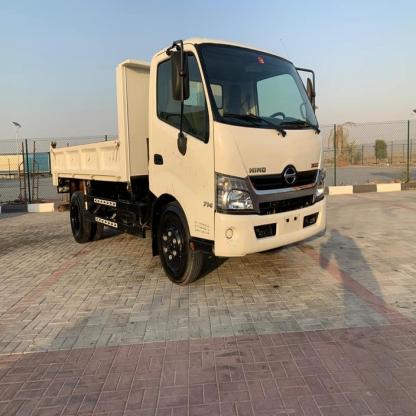dump_truck: (39, 31, 334, 292)
